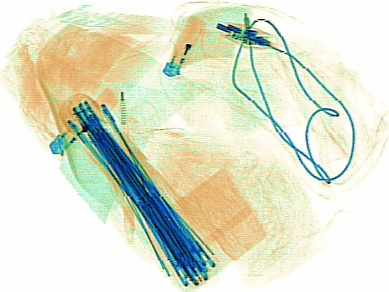lighter: (47, 86, 118, 156), (161, 13, 203, 80)
